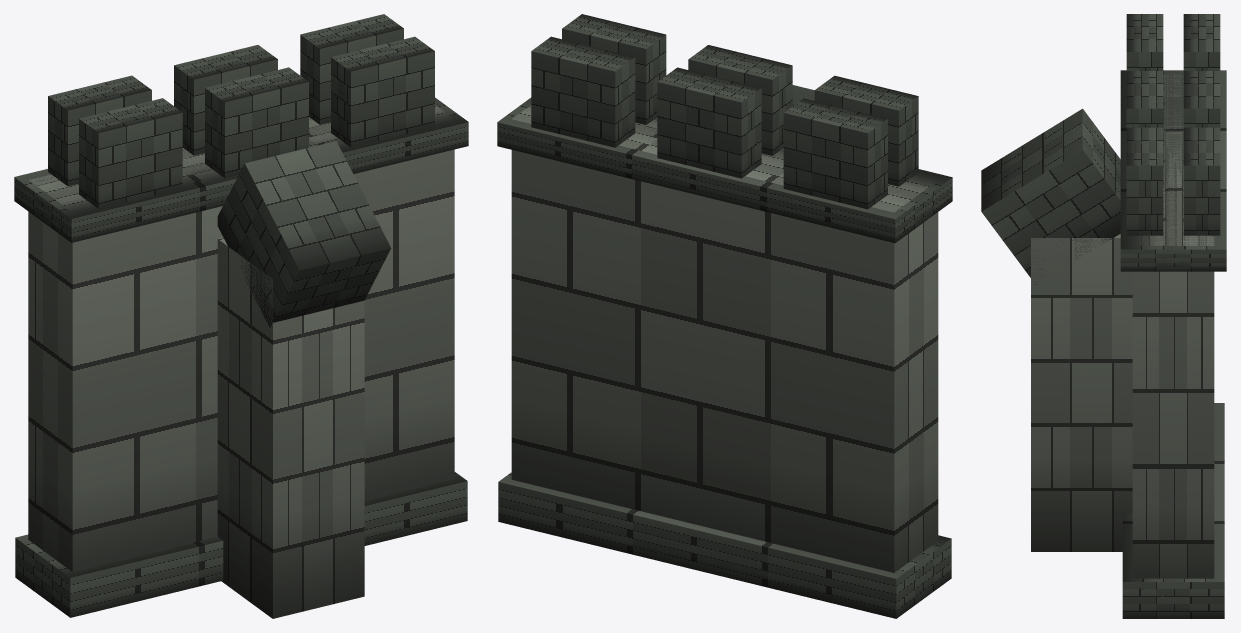
File: wall_buttress.gltf
3 renders of one model, left to right at view 1: azimuth 30°, elevation 25°; view 2: azimuth 150°, elevation 25°; view 3: azimuth 270°, elevation 25°, orthographic. The views are drawn at different scales.
Parts seen in each view (by area): view 1: wall_buttress; view 2: wall_buttress; view 3: wall_buttress.
Boxes of the visible parts, box(x1,y1,x2,y2) form: wall_buttress: box(14, 14, 468, 618); wall_buttress: box(497, 14, 952, 618); wall_buttress: box(981, 14, 1226, 618).
Bounding box in the file's own units: 1.04 × 1.2 × 0.6015.
1 material, 1 textured.
